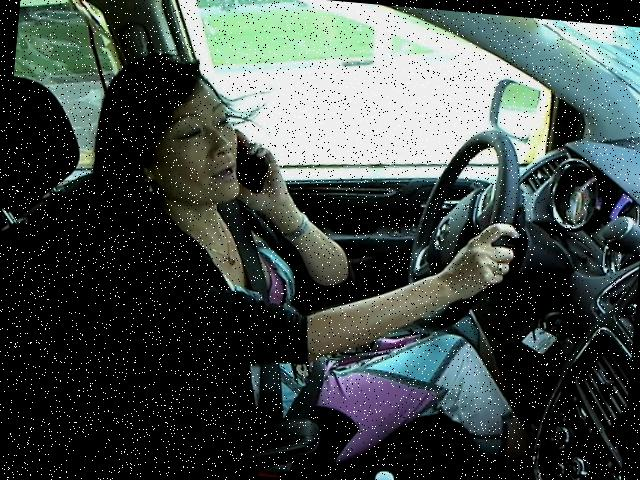c2 - Talking on the phone: (63, 37, 538, 392)
